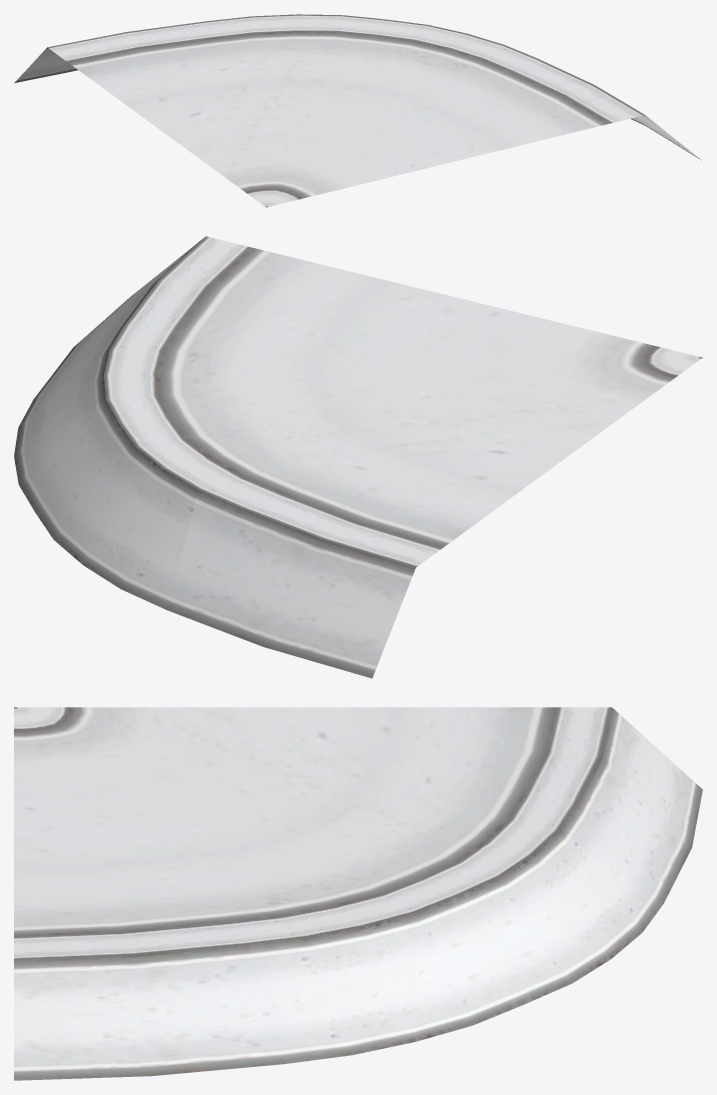
File: Ground_TrimCover_Corner.FBX
The picture shows the model from 3 angles, top to bottom: view 1: azimuth 30°, elevation 25°; view 2: azimuth 150°, elevation 25°; view 3: azimuth 270°, elevation 25°; orthographic projection. The views are drawn at different scales.
Parts seen in each view (by area): view 1: Ground_TrimCover_Corner; view 2: Ground_TrimCover_Corner; view 3: Ground_TrimCover_Corner.
Boxes of the visible parts, left/top/right/bottom form: Ground_TrimCover_Corner: left=14, top=14, right=701, bottom=207; Ground_TrimCover_Corner: left=14, top=236, right=702, bottom=678; Ground_TrimCover_Corner: left=14, top=707, right=702, bottom=1080.
Bounding box in the file's own units: 1.15 × 0.152 × 1.15.
